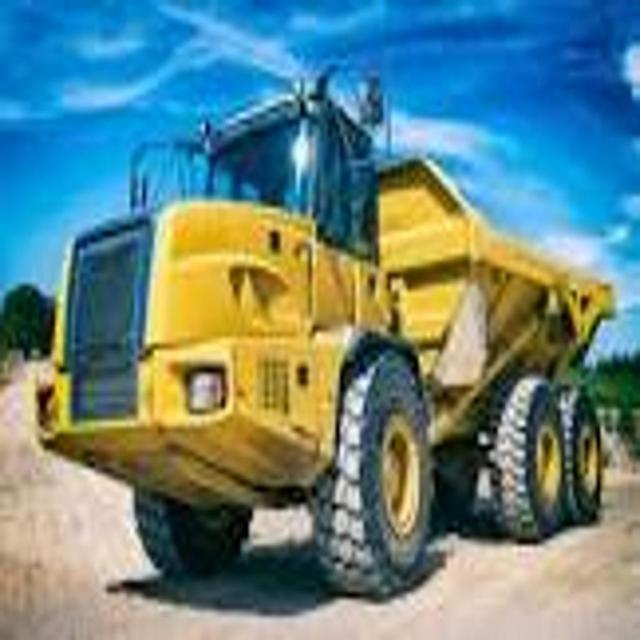dump_truck: (40, 74, 614, 602)
